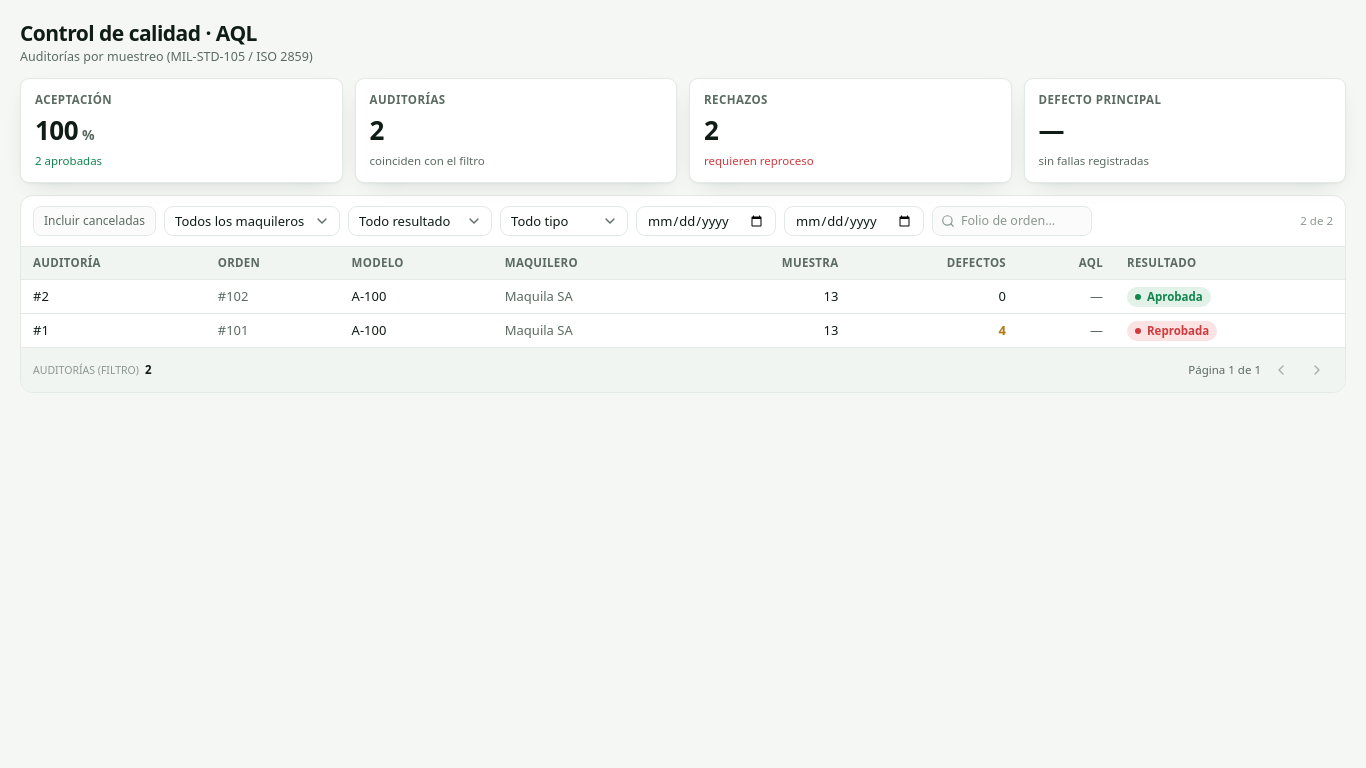
Scenario: ConsultaAuditoriasPagina › al hacer clic en un renglón abre el cajón con el título de la auditoría
Step 1. Click the 1st row with test id "fila-consulta-auditoria" → (683, 296), box [21,279,1345,313]
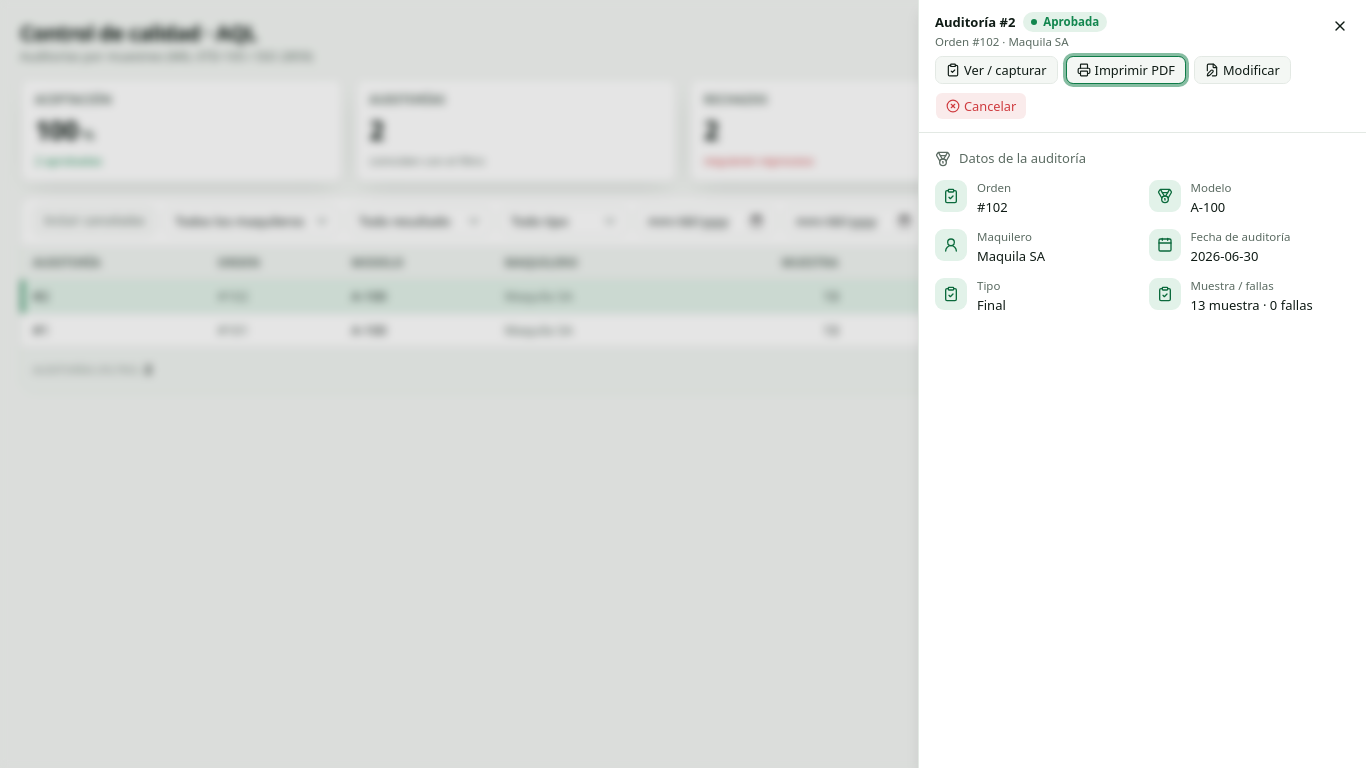
Result: the text "Auditoría #2" is shown at [935,12,1107,32]
